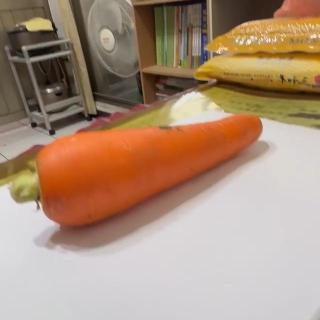carrot: (10, 112, 264, 230)
